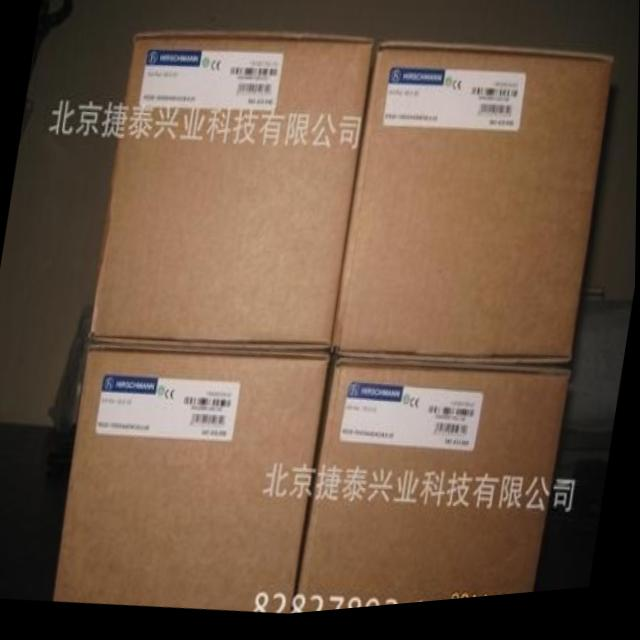box: (332, 47, 616, 375), (89, 33, 374, 357), (54, 344, 332, 619), (296, 362, 571, 619)
